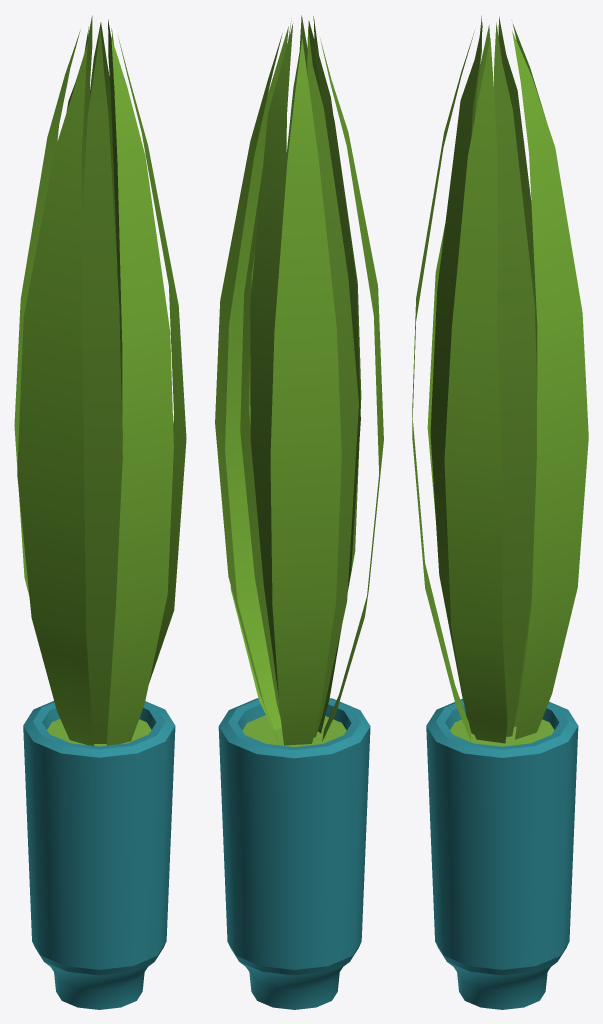
The model's file is Plant_5.obj.
3 views of the same model, side by side, from view 1: azimuth 30°, elevation 25°; view 2: azimuth 150°, elevation 25°; view 3: azimuth 270°, elevation 25° (orthographic).
Parts seen in each view (by area): view 1: Plant_5; view 2: Plant_5; view 3: Plant_5.
Part boxes in pixels (x1,y1,x2,y2): Plant_5: (14, 15, 186, 1009); Plant_5: (215, 15, 383, 1009); Plant_5: (412, 15, 588, 1009).
Size of the model in its own units: 0.2976 by 1.76 by 0.2885.
